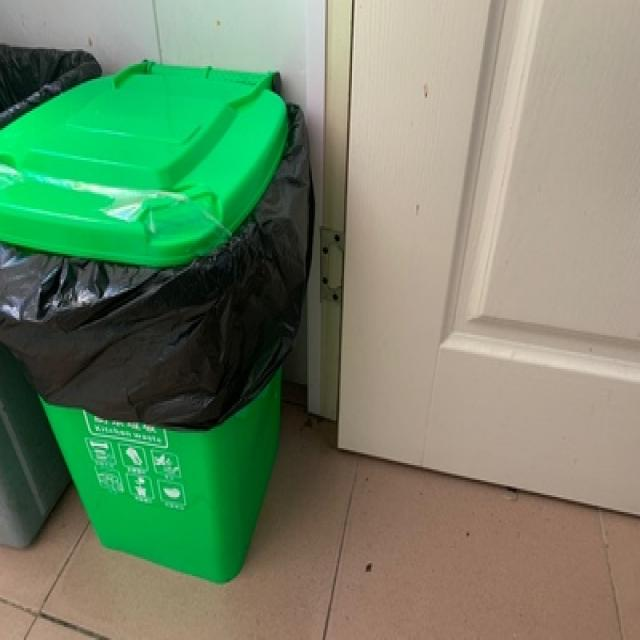ash bin: (0, 55, 307, 582)
